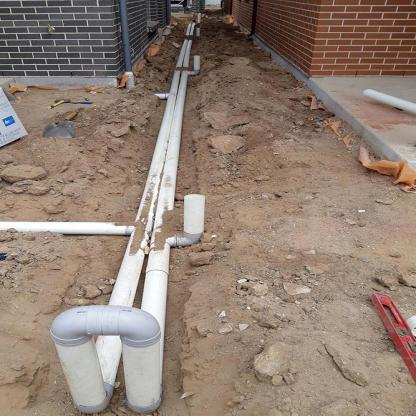PVC: (1, 14, 207, 412), (363, 88, 415, 114)
